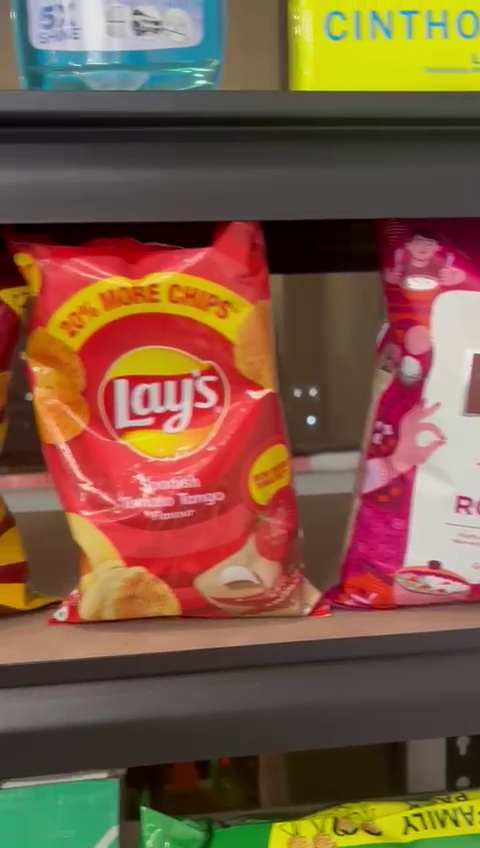Lays: (9, 229, 331, 631)
